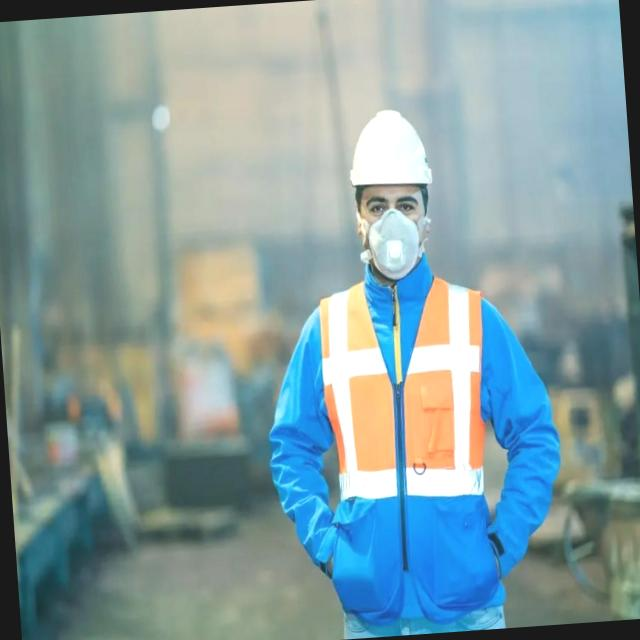helmet: (344, 104, 434, 198)
no-goggles: (350, 171, 433, 227)
vest: (308, 267, 499, 519)
